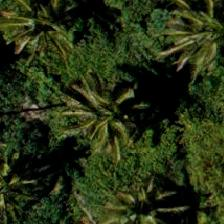Kelapa_Sawit: (70, 71, 160, 161), (64, 65, 154, 155), (20, 0, 110, 81), (169, 0, 223, 84), (0, 151, 50, 223)
